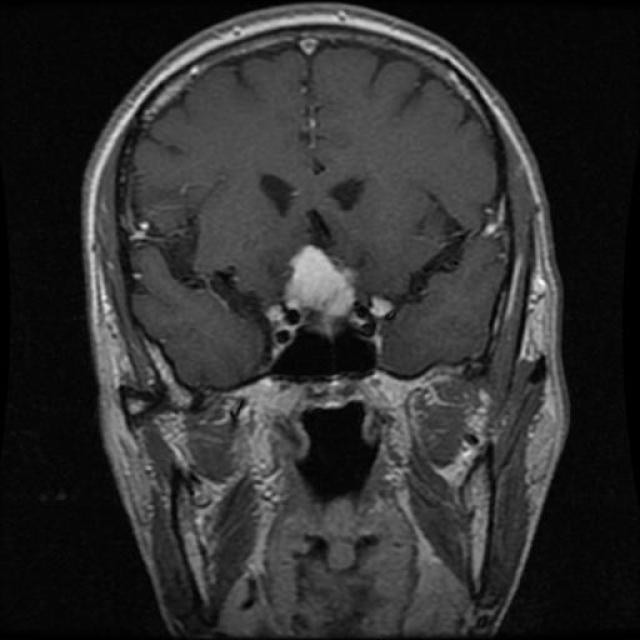meningioma: (285, 246, 355, 319)
